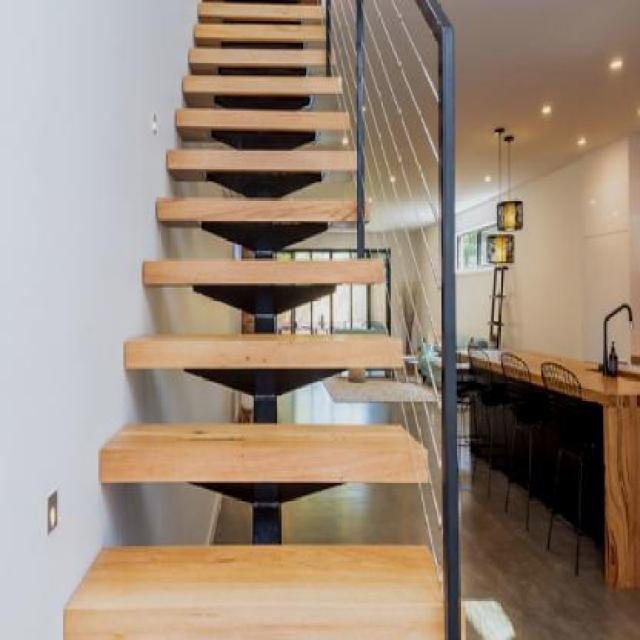stair: (54, 0, 496, 638)
